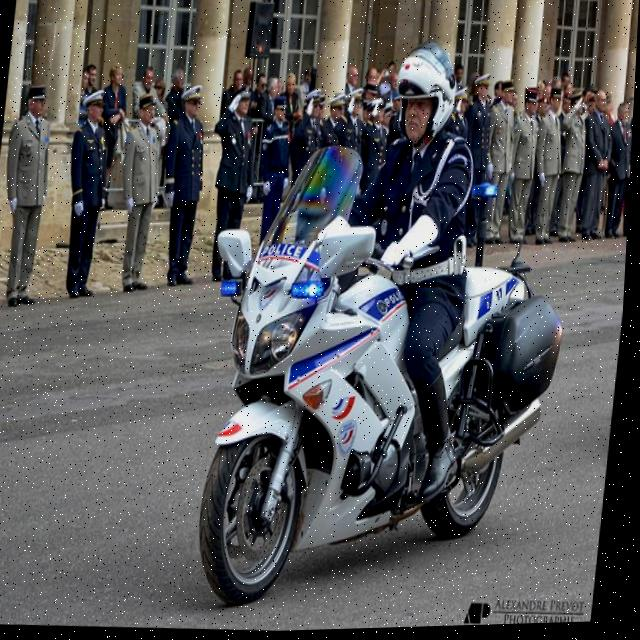motorcycle: (181, 129, 591, 623)
